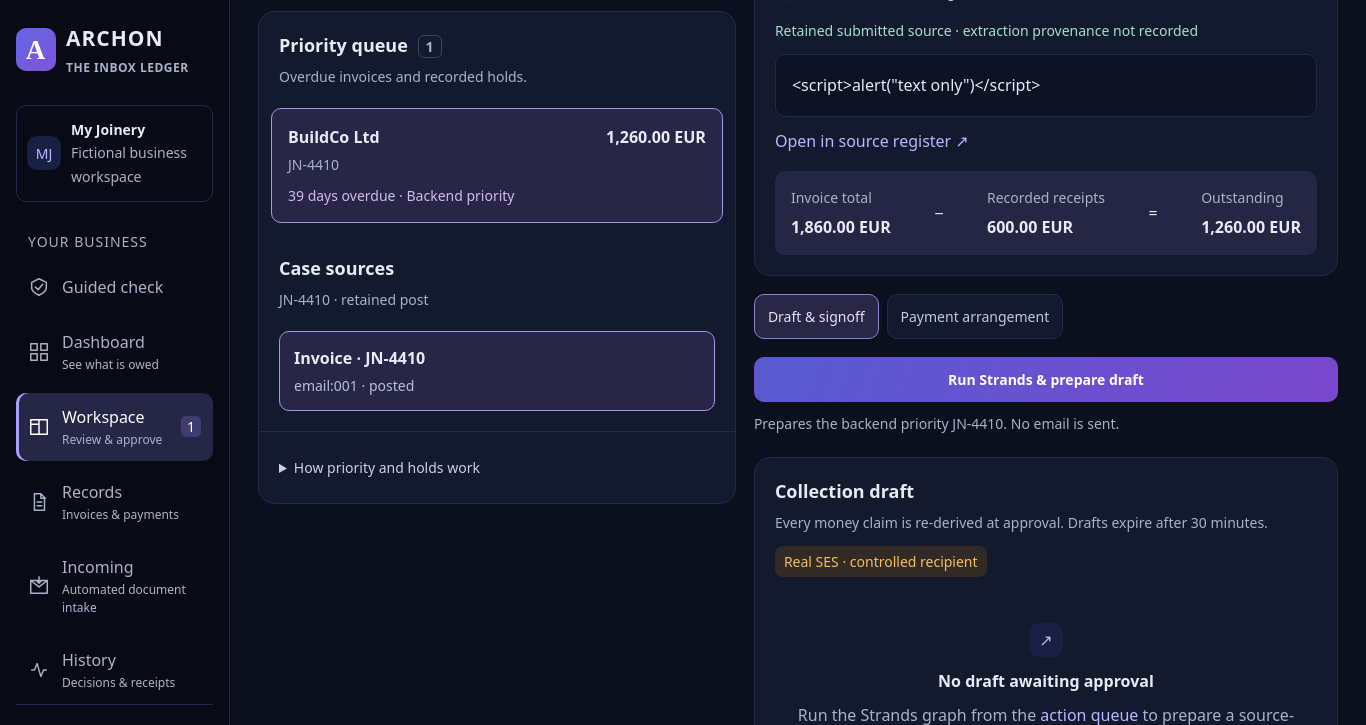
Test case: async mutation resolves as failed without replay
(page scrolled)
Click the button "Run Strands & prepare draft": (1046, 379) top-left (754, 357), bottom-right (1338, 402)
Wait 2000 ms
(page scrolled)
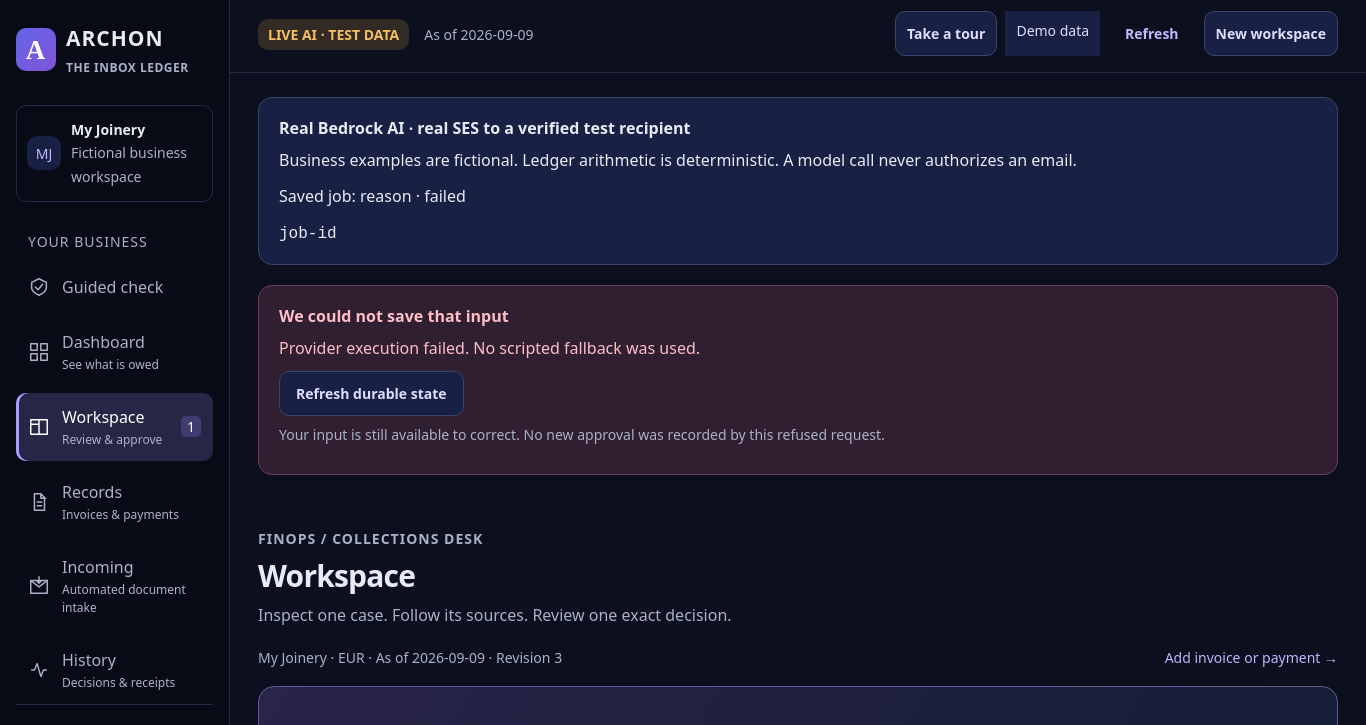
Result: the element with test id "provider-status" shows "failed" at top-left (424, 185), bottom-right (466, 207)
